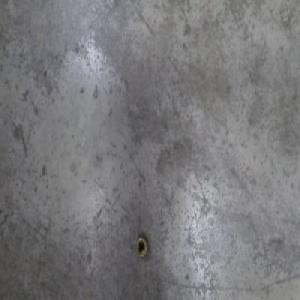Nut: (134, 233, 148, 259)
